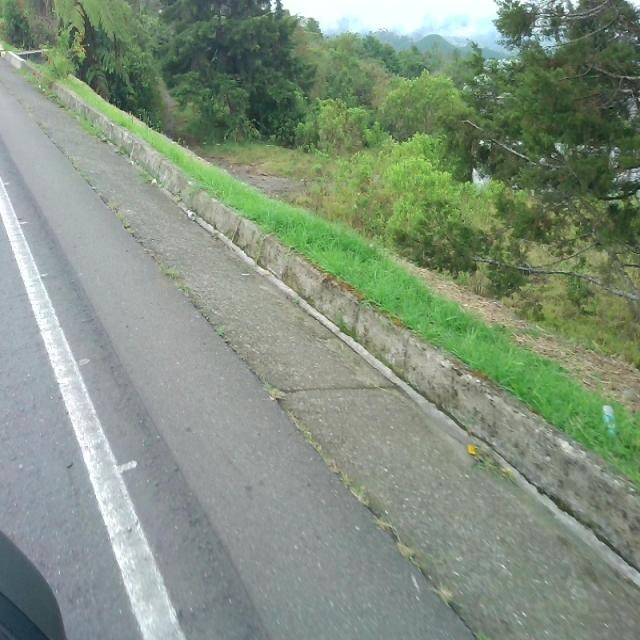DITCH: (1, 52, 638, 638), (3, 68, 637, 638)
